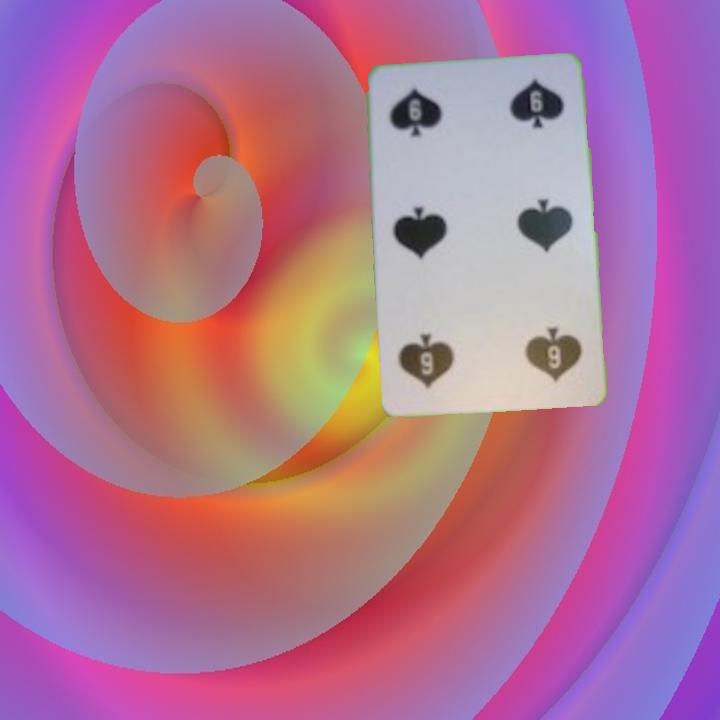s_6.png: (377, 75, 482, 167), (486, 304, 591, 396)
